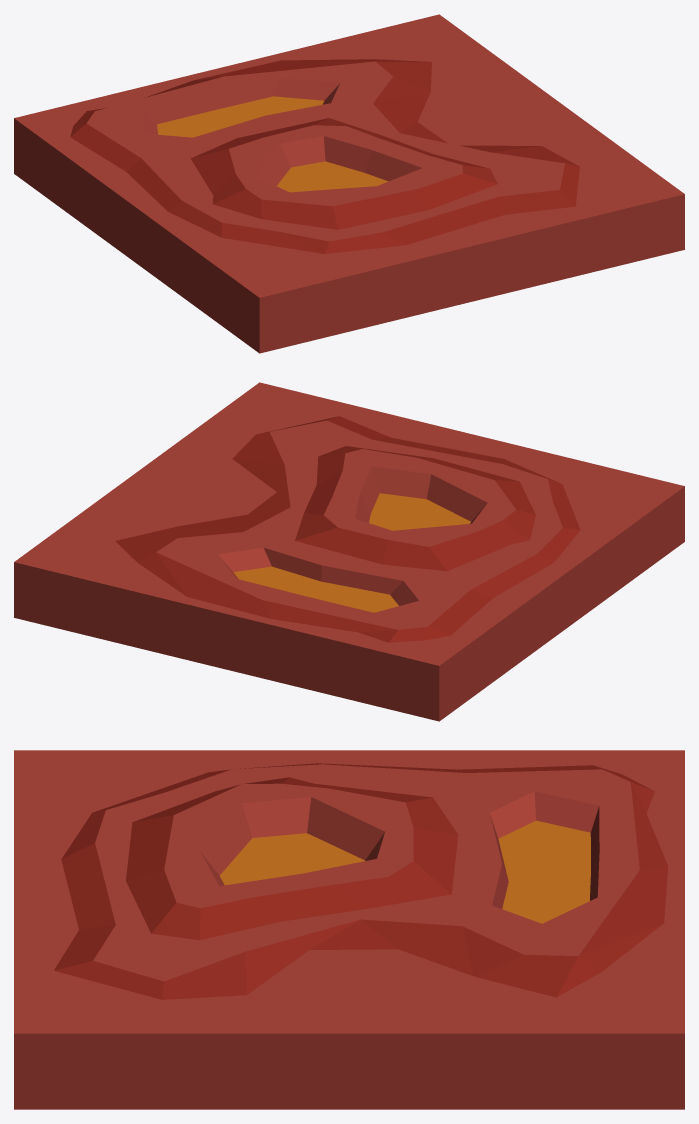
File: Field_1_digged.fbx
3 renders of one model, top to bottom at view 1: azimuth 30°, elevation 25°; view 2: azimuth 150°, elevation 25°; view 3: azimuth 270°, elevation 25°, orthographic. The views are drawn at different scales.
Visible parts, largest first — view 1: Plane.015; view 2: Plane.015; view 3: Plane.015.
Boxes of the visible parts, x1,y1,x2,y2 form: Plane.015: (14, 14, 684, 353); Plane.015: (14, 382, 684, 721); Plane.015: (14, 750, 684, 1109).
Bounding box in the file's own units: 400 × 64.99 × 400.
